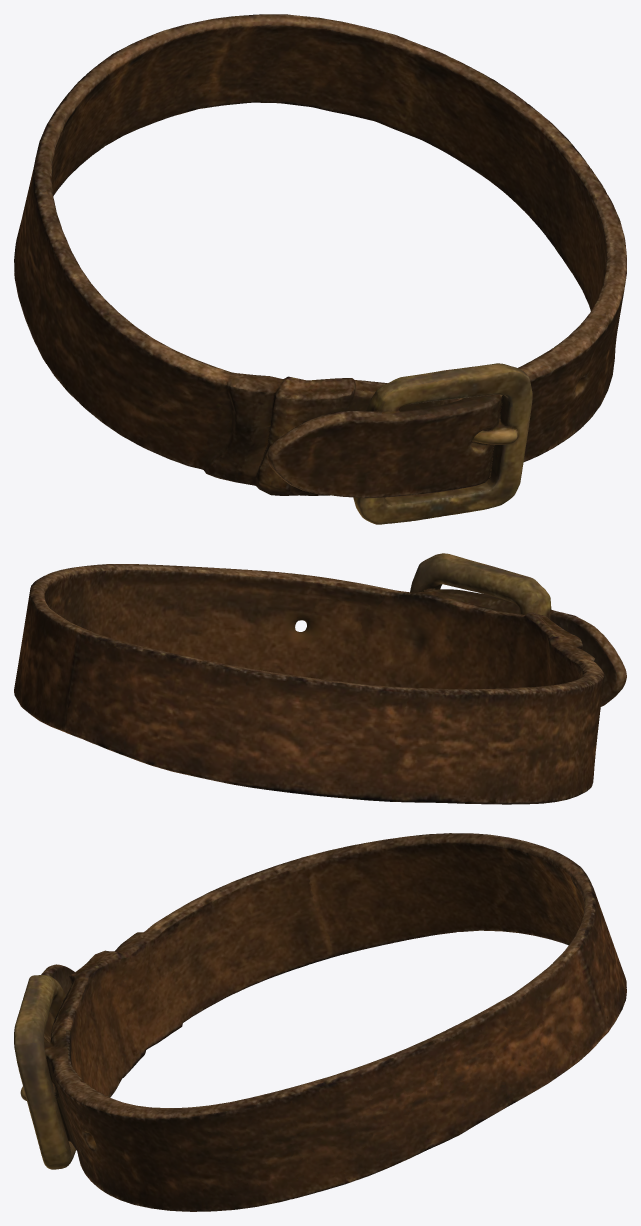
The model's file is keeper-model.glb.
3 views of the same model, one above another, from view 1: azimuth 30°, elevation 25°; view 2: azimuth 150°, elevation 25°; view 3: azimuth 270°, elevation 25° (orthographic). The views are drawn at different scales.
Parts seen in each view (by area): view 1: Keeper display axis +90deg X; view 2: Keeper display axis +90deg X; view 3: Keeper display axis +90deg X.
Part boxes in pixels (x1,y1,x2,y2): Keeper display axis +90deg X: (14,14,626,524); Keeper display axis +90deg X: (14,553,626,804); Keeper display axis +90deg X: (14,833,626,1211).
Bounding box in the file's own units: 0.8643 × 0.4437 × 0.9437.
1 material, 1 textured.
